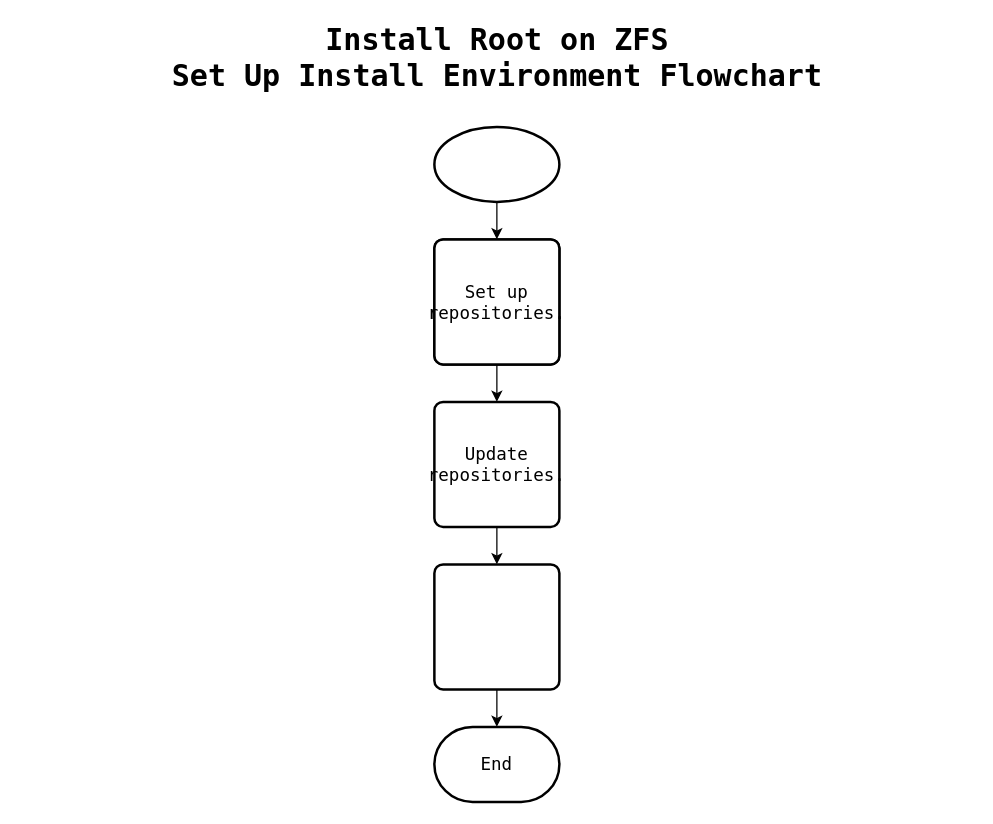
Image size: 993x824. Some labels were removed from this diagram. The shapes that lost their labels are listed below. From the top down, each one's centre as x and y in pixels, then its label:
At [496,163]: "Start".
At [496,626]: "Install required packages.".
